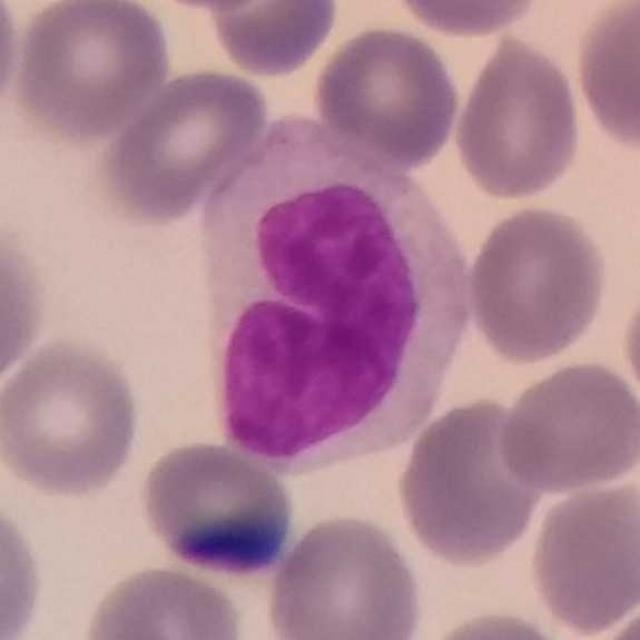mono: (195, 103, 479, 480)
